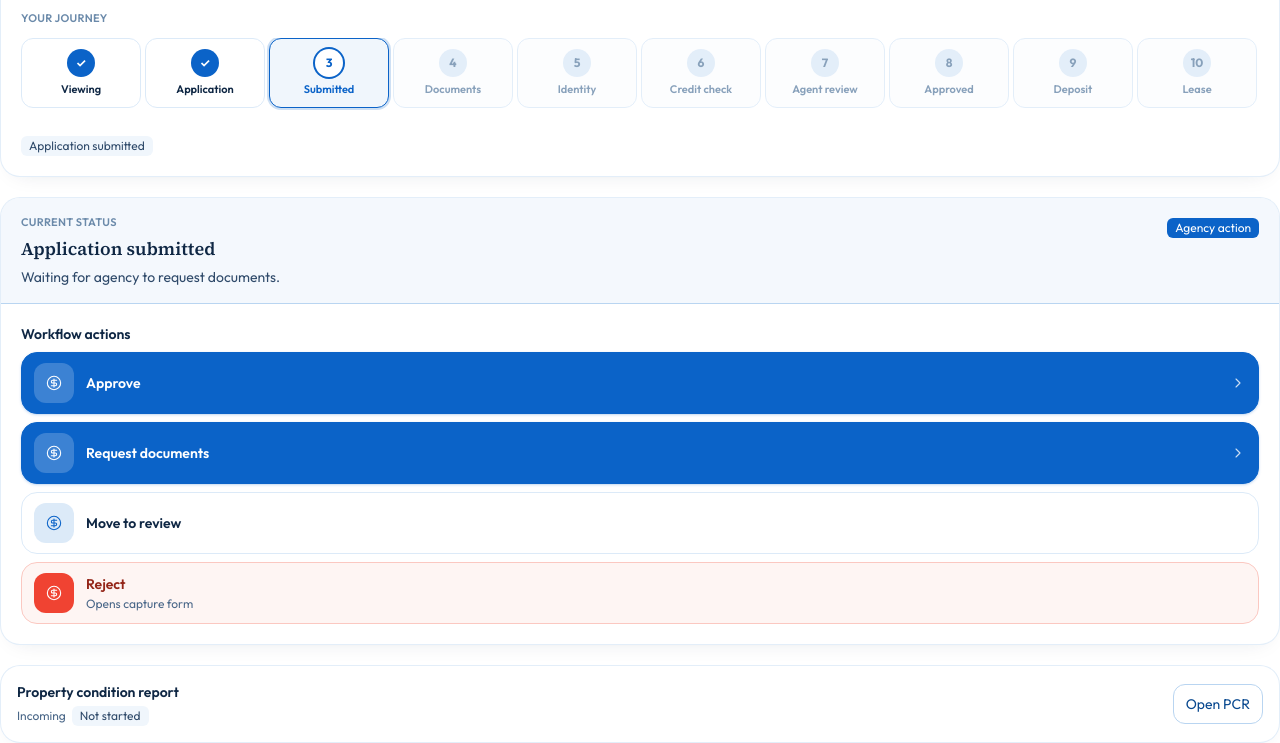
Test case: applicant page: approve flash pays only persisted, same-agency rows › C1/C2/A1: rows the approval saved, own agency, exact on-behalf label with payments.manage
(page scrolled)
Click the button "Approve". click: (54, 383)
box: [21,352,1259,414]
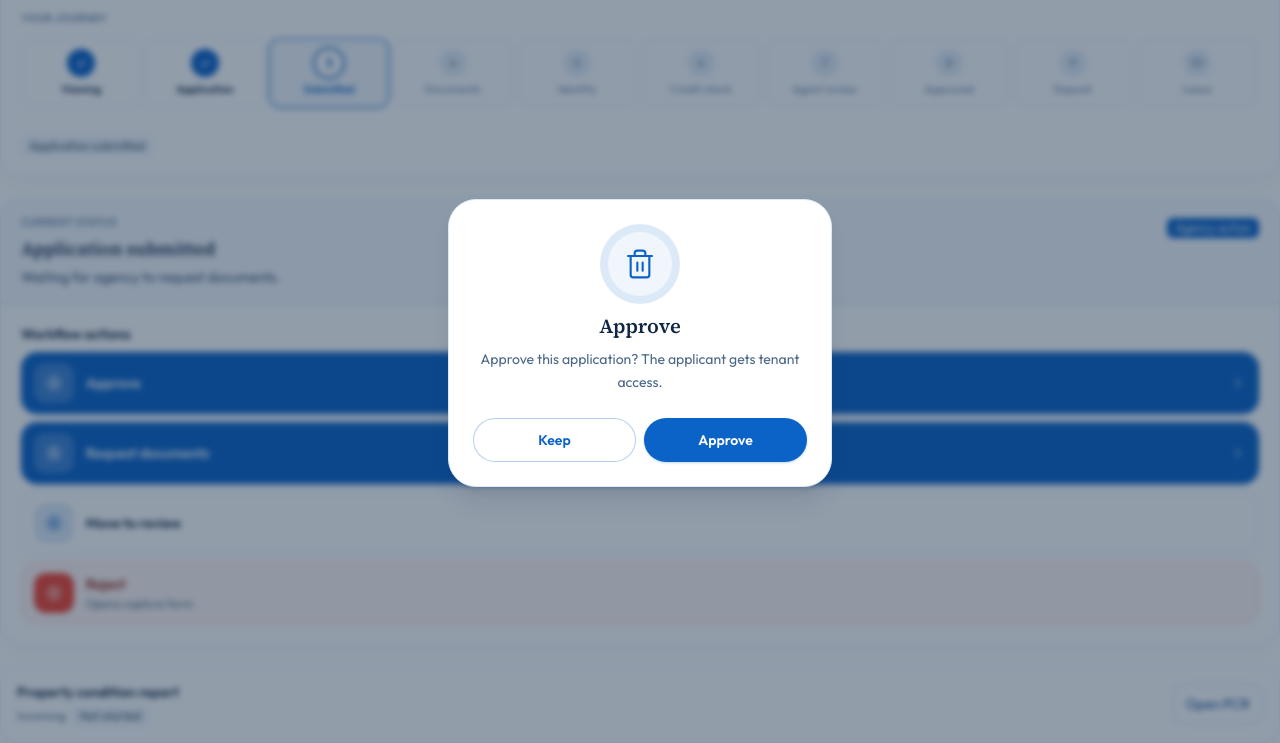
Click the button "Approve". click: (726, 440)
box: [644,418,807,462]
(page scrolled)
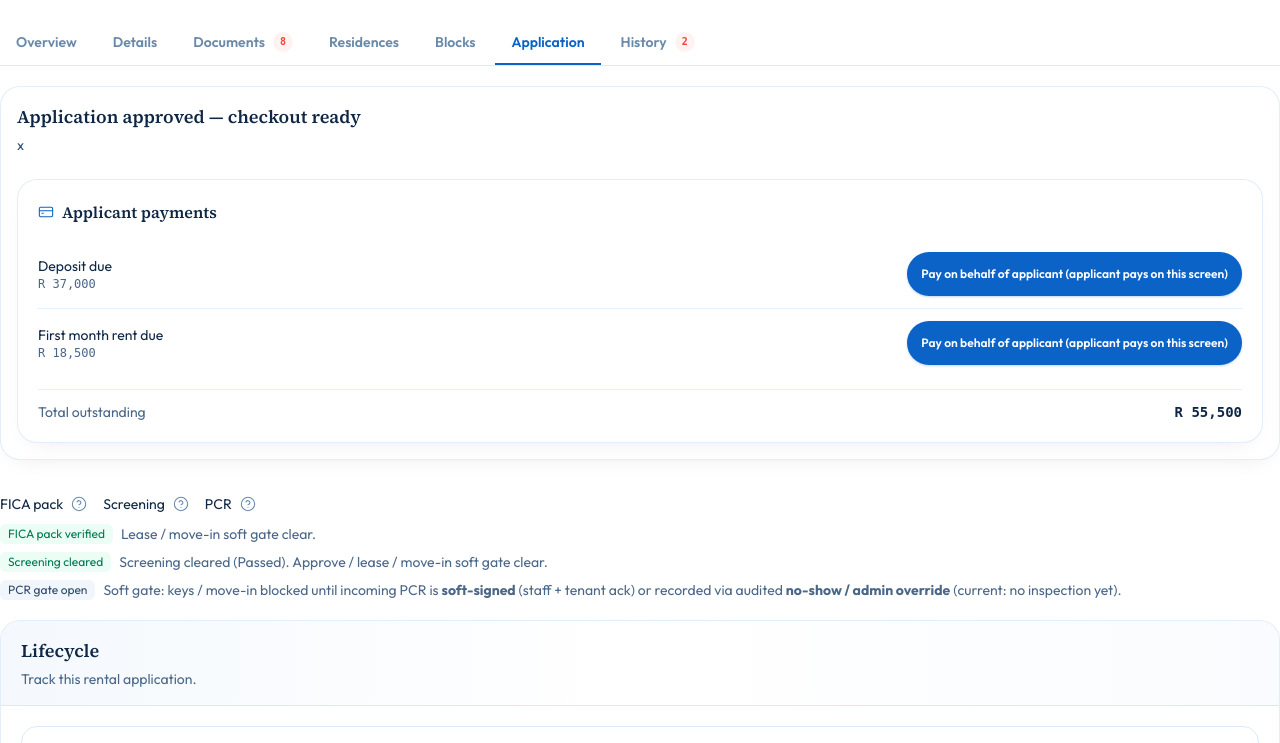
Expected: the button "Pay on behalf of applicant (applicant pays on this screen)" in the row of "Deposit due" is shown, [907,252,1242,296]
Expected: the button "Pay on behalf of applicant (applicant pays on this screen)" in the row of "First month rent due" is shown, [907,321,1242,365]
